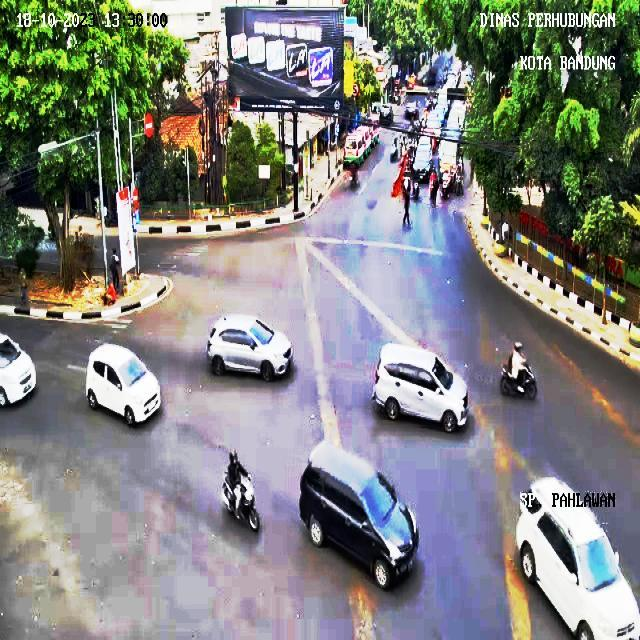car: (516, 478, 640, 640), (300, 441, 419, 588), (372, 344, 469, 431), (85, 344, 161, 424), (208, 316, 294, 381), (0, 334, 36, 406)
motorcyclist: (221, 450, 261, 532), (500, 349, 538, 399)
